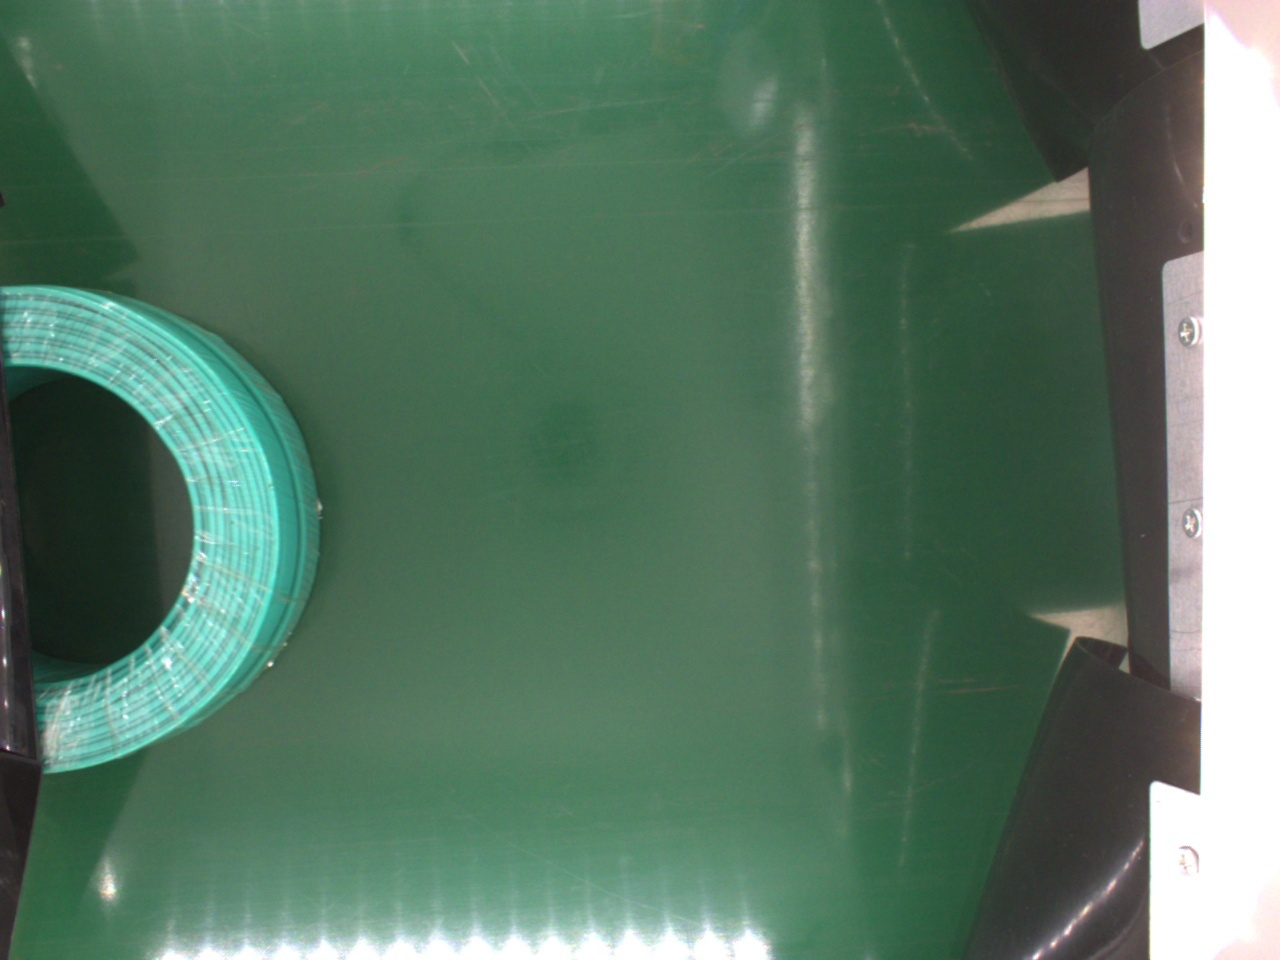green: (12, 280, 326, 787)
